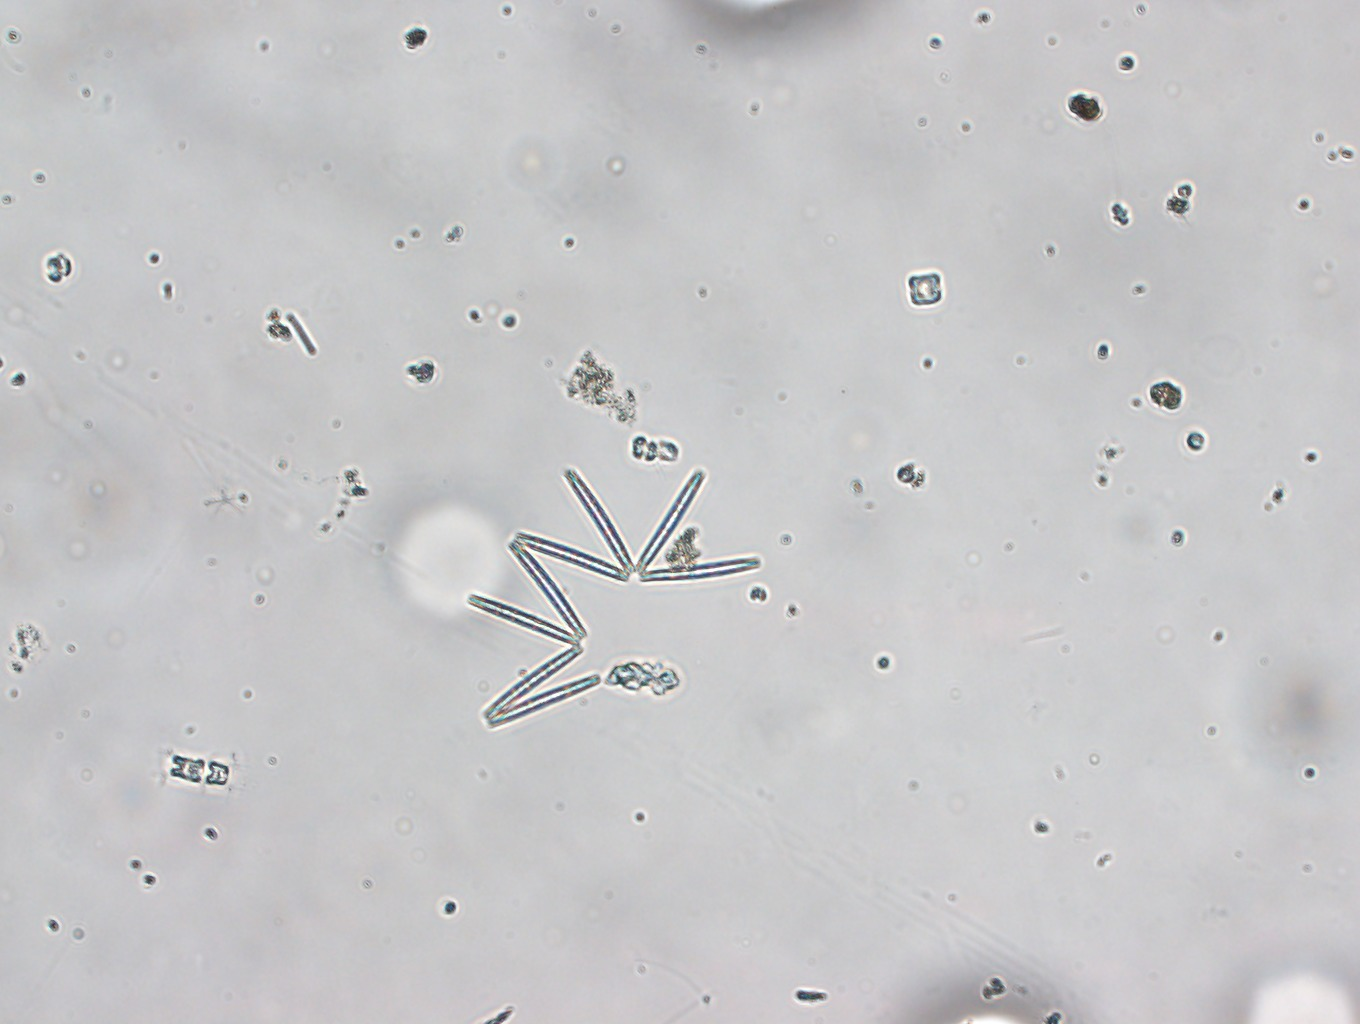thalassionema nitzschioides: (466, 464, 770, 735)
